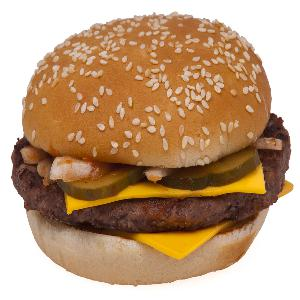cheeseburger: (12, 7, 299, 295)
